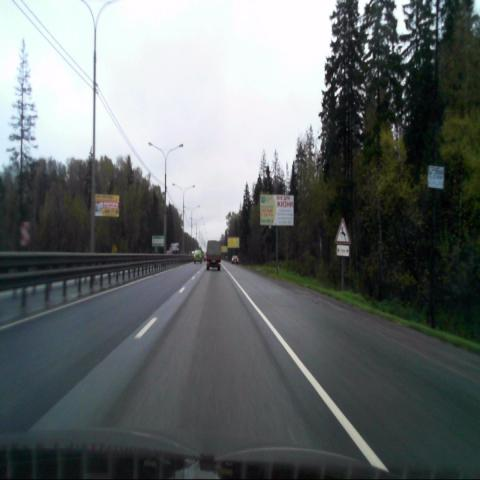1_27: (334, 217, 350, 245)
